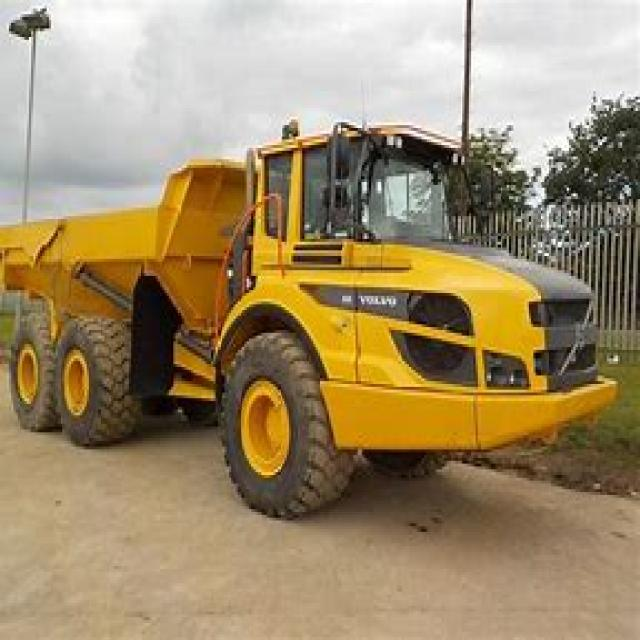dump_truck: (5, 105, 611, 546)
